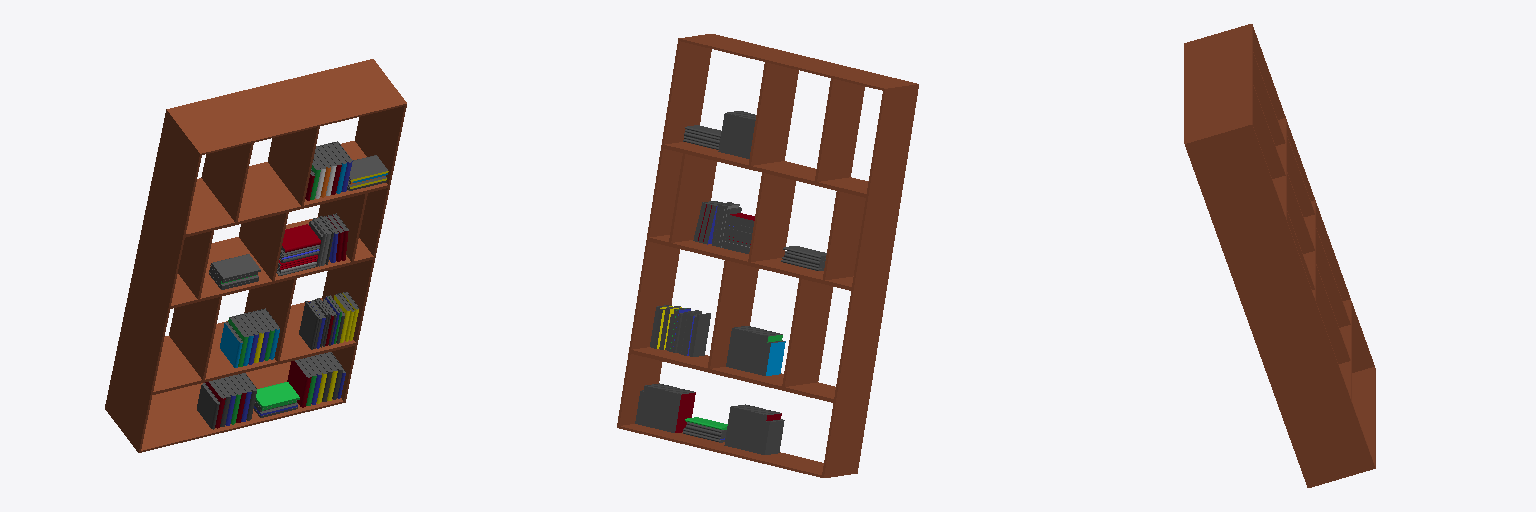
File: bookshelf.obj
3 views of the same model, side by side, from view 1: azimuth 30°, elevation 25°; view 2: azimuth 150°, elevation 25°; view 3: azimuth 270°, elevation 25° (orthographic).
Parts seen in each view (by area): view 1: Object.1, Object.8, Object.7, Object.15; view 2: Object.1; view 3: Object.1.
Part boxes in pixels (bbox=[...]): Object.1: bbox=[105, 59, 406, 452]; Object.8: bbox=[211, 254, 260, 280]; Object.7: bbox=[255, 382, 299, 408]; Object.15: bbox=[281, 224, 320, 252]; Object.1: bbox=[617, 34, 918, 477]; Object.1: bbox=[1184, 24, 1375, 487].
Size of the model in its own units: 1522 by 2558 by 1216.